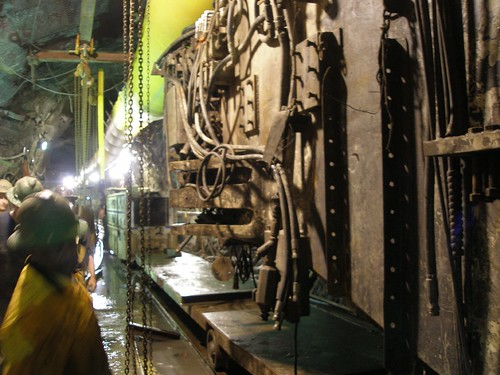person hardhat: (8, 192, 106, 373), (5, 175, 45, 223)
